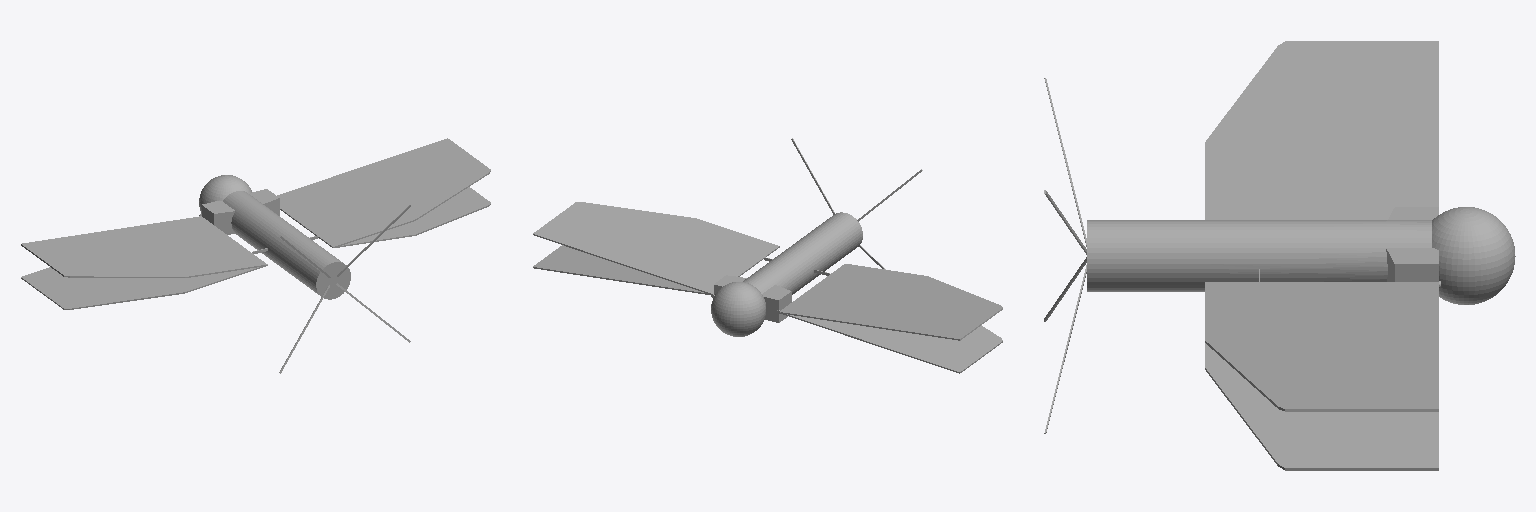
The robot description file, URDF, robot "flapper":
<?xml version="1.0" ?>
<!-- =================================================================================== -->
<!-- |    This document was autogenerated by xacro from Flapper.xacro                  | -->
<!-- |    EDITING THIS FILE BY HAND IS NOT RECOMMENDED                                 | -->
<!-- =================================================================================== -->
<robot name="flapper">
  <material name="silver">
    <color rgba="0.700 0.700 0.700 1.000"/>
  </material>
  <transmission name="left_wing_back_m_tran">
    <type>transmission_interface/SimpleTransmission</type>
    <joint name="left_wing_back_m">
      <hardwareInterface>hardware_interface/EffortJointInterface</hardwareInterface>
    </joint>
    <actuator name="left_wing_back_m_actr">
      <hardwareInterface>hardware_interface/EffortJointInterface</hardwareInterface>
      <mechanicalReduction>1</mechanicalReduction>
    </actuator>
  </transmission>
  <transmission name="right_wing_back_tran">
    <type>transmission_interface/SimpleTransmission</type>
    <joint name="right_wing_back">
      <hardwareInterface>hardware_interface/EffortJointInterface</hardwareInterface>
    </joint>
    <actuator name="right_wing_back_actr">
      <hardwareInterface>hardware_interface/EffortJointInterface</hardwareInterface>
      <mechanicalReduction>1</mechanicalReduction>
    </actuator>
  </transmission>
  <transmission name="right_wing_front_m_tran">
    <type>transmission_interface/SimpleTransmission</type>
    <joint name="right_wing_front_m">
      <hardwareInterface>hardware_interface/EffortJointInterface</hardwareInterface>
    </joint>
    <actuator name="right_wing_front_m_actr">
      <hardwareInterface>hardware_interface/EffortJointInterface</hardwareInterface>
      <mechanicalReduction>1</mechanicalReduction>
    </actuator>
  </transmission>
  <transmission name="left_wing_front_tran">
    <type>transmission_interface/SimpleTransmission</type>
    <joint name="left_wing_front">
      <hardwareInterface>hardware_interface/EffortJointInterface</hardwareInterface>
    </joint>
    <actuator name="left_wing_front_actr">
      <hardwareInterface>hardware_interface/EffortJointInterface</hardwareInterface>
      <mechanicalReduction>1</mechanicalReduction>
    </actuator>
  </transmission>
  <gazebo>
    <plugin filename="libgazebo_ros_control.so" name="control"/>
  </gazebo>
  <gazebo reference="base_link">
    <material>Gazebo/Silver</material>
    <mu1>0.2</mu1>
    <mu2>0.2</mu2>
    <selfCollide>true</selfCollide>
    <gravity>true</gravity>
  </gazebo>
  <gazebo reference="left_wing_back_1">
    <material>Gazebo/Silver</material>
    <mu1>0.2</mu1>
    <mu2>0.2</mu2>
    <selfCollide>true</selfCollide>
  </gazebo>
  <gazebo reference="right_wing_back_1">
    <material>Gazebo/Silver</material>
    <mu1>0.2</mu1>
    <mu2>0.2</mu2>
    <selfCollide>true</selfCollide>
  </gazebo>
  <gazebo reference="right_wing_front_1">
    <material>Gazebo/Silver</material>
    <mu1>0.2</mu1>
    <mu2>0.2</mu2>
    <selfCollide>true</selfCollide>
  </gazebo>
  <gazebo reference="left_wing_front_1">
    <material>Gazebo/Silver</material>
    <mu1>0.2</mu1>
    <mu2>0.2</mu2>
    <selfCollide>true</selfCollide>
  </gazebo>
  <link name="base_link">
    <inertial>
      <origin rpy="0 0 0" xyz="-4.19101812440002e-08 0.12776286582420185 0.0"/>
      <mass value="0.333408595011269"/>
      <inertia ixx="0.001649" ixy="-0.0" ixz="0.0" iyy="9.4e-05" iyz="-0.0" izz="0.001668"/>
    </inertial>
    <visual>
      <origin rpy="0 0 0" xyz="0 0 0"/>
      <geometry>
        <mesh filename="package://flapper_description/meshes/base_link.stl" scale="0.001 0.001 0.001"/>
      </geometry>
      <material name="silver"/>
    </visual>
    <collision>
      <origin rpy="0 0 0" xyz="0 0 0"/>
      <geometry>
        <mesh filename="package://flapper_description/meshes/base_link.stl" scale="0.001 0.001 0.001"/>
      </geometry>
    </collision>
  </link>
  <link name="left_wing_back_1">
    <inertial>
      <origin rpy="0 0 0" xyz="0.06326482306657802 -0.06051126668244686 -0.07422928663834187"/>
      <mass value="0.03802500177087531"/>
      <inertia ixx="0.000125" ixy="-9e-06" ixz="6.4e-05" iyy="0.00013" iyz="1e-05" izz="0.000102"/>
    </inertial>
    <visual>
      <origin rpy="0 0 0" xyz="-0.0375 -0.195 -0.0"/>
      <geometry>
        <mesh filename="package://flapper_description/meshes/left_wing_back_1.stl" scale="0.001 0.001 0.001"/>
      </geometry>
      <material name="silver"/>
    </visual>
    <collision>
      <origin rpy="0 0 0" xyz="-0.0375 -0.195 -0.0"/>
      <geometry>
        <mesh filename="package://flapper_description/meshes/left_wing_back_1.stl" scale="0.001 0.001 0.001"/>
      </geometry>
    </collision>
  </link>
  <link name="right_wing_back_1">
    <inertial>
      <origin rpy="0 0 0" xyz="-0.062115755843106156 -0.06051126668244711 -0.07519346805287182"/>
      <mass value="0.0380250017708754"/>
      <inertia ixx="0.000125" ixy="9e-06" ixz="-6.4e-05" iyy="0.00013" iyz="1e-05" izz="0.000102"/>
    </inertial>
    <visual>
      <origin rpy="0 0 0" xyz="0.0375 -0.195 -0.0"/>
      <geometry>
        <mesh filename="package://flapper_description/meshes/right_wing_back_1.stl" scale="0.001 0.001 0.001"/>
      </geometry>
      <material name="silver"/>
    </visual>
    <collision>
      <origin rpy="0 0 0" xyz="0.0375 -0.195 -0.0"/>
      <geometry>
        <mesh filename="package://flapper_description/meshes/right_wing_back_1.stl" scale="0.001 0.001 0.001"/>
      </geometry>
    </collision>
  </link>
  <link name="right_wing_front_1">
    <inertial>
      <origin rpy="0 0 0" xyz="-0.06326482250778453 -0.06051126668244711 0.07422928663834194"/>
      <mass value="0.03802500177087537"/>
      <inertia ixx="0.000125" ixy="9e-06" ixz="6.4e-05" iyy="0.00013" iyz="-1e-05" izz="0.000102"/>
    </inertial>
    <visual>
      <origin rpy="0 0 0" xyz="0.0375 -0.195 -0.0"/>
      <geometry>
        <mesh filename="package://flapper_description/meshes/right_wing_front_1.stl" scale="0.001 0.001 0.001"/>
      </geometry>
      <material name="silver"/>
    </visual>
    <collision>
      <origin rpy="0 0 0" xyz="0.0375 -0.195 -0.0"/>
      <geometry>
        <mesh filename="package://flapper_description/meshes/right_wing_front_1.stl" scale="0.001 0.001 0.001"/>
      </geometry>
    </collision>
  </link>
  <link name="left_wing_front_1">
    <inertial>
      <origin rpy="0 0 0" xyz="0.062115756401899584 -0.06051126668244694 0.07519346805287173"/>
      <mass value="0.038025001770875345"/>
      <inertia ixx="0.000125" ixy="-9e-06" ixz="-6.4e-05" iyy="0.00013" iyz="-1e-05" izz="0.000102"/>
    </inertial>
    <visual>
      <origin rpy="0 0 0" xyz="-0.0375 -0.195 -0.0"/>
      <geometry>
        <mesh filename="package://flapper_description/meshes/left_wing_front_1.stl" scale="0.001 0.001 0.001"/>
      </geometry>
      <material name="silver"/>
    </visual>
    <collision>
      <origin rpy="0 0 0" xyz="-0.0375 -0.195 -0.0"/>
      <geometry>
        <mesh filename="package://flapper_description/meshes/left_wing_front_1.stl" scale="0.001 0.001 0.001"/>
      </geometry>
    </collision>
  </link>
  <joint name="left_wing_back_m" type="revolute">
    <origin rpy="0 0 0" xyz="0.0375 0.195 0.0"/>
    <parent link="base_link"/>
    <child link="left_wing_back_1"/>
    <axis xyz="0.0 -1.0 0.0"/>
    <limit effort="100" lower="-0.785398" upper="0.0" velocity="100"/>
  </joint>
  <joint name="right_wing_back" type="revolute">
    <origin rpy="0 0 0" xyz="-0.0375 0.195 0.0"/>
    <parent link="base_link"/>
    <child link="right_wing_back_1"/>
    <axis xyz="0.0 -1.0 0.0"/>
    <limit effort="100" lower="0.0" upper="0.785398" velocity="100"/>
  </joint>
  <joint name="right_wing_front_m" type="revolute">
    <origin rpy="0 0 0" xyz="-0.0375 0.195 0.0"/>
    <parent link="base_link"/>
    <child link="right_wing_front_1"/>
    <axis xyz="0.0 -1.0 0.0"/>
    <limit effort="100" lower="-0.785398" upper="0.0" velocity="100"/>
  </joint>
  <joint name="left_wing_front" type="revolute">
    <origin rpy="0 0 0" xyz="0.0375 0.195 0.0"/>
    <parent link="base_link"/>
    <child link="left_wing_front_1"/>
    <axis xyz="0.0 -1.0 0.0"/>
    <limit effort="100" lower="0.0" upper="0.785398" velocity="100"/>
  </joint>
</robot>

--- Render facts (derived) ---
3 views of the same robot in one strip: view 1: azimuth 30°, elevation 25°; view 2: azimuth 150°, elevation 25°; view 3: azimuth 270°, elevation 25° (orthographic).
Robot: flapper — 5 links, 4 joints (4 revolute); root link base_link; default pose: every joint at zero.
Visible links, largest first — view 1: left_wing_front_1, right_wing_front_1, base_link, right_wing_back_1, left_wing_back_1; view 2: left_wing_front_1, right_wing_front_1, base_link, right_wing_back_1, left_wing_back_1; view 3: right_wing_front_1, base_link, left_wing_front_1, left_wing_back_1.
Link boxes in pixels (box(x1,y1,x2,y2)): left_wing_front_1: box(277, 138, 490, 247); right_wing_front_1: box(21, 216, 267, 277); base_link: box(199, 175, 410, 373); right_wing_back_1: box(21, 265, 267, 309); left_wing_back_1: box(333, 187, 490, 247); left_wing_front_1: box(533, 202, 779, 294); right_wing_front_1: box(781, 264, 1002, 340); base_link: box(711, 138, 922, 336); right_wing_back_1: box(780, 313, 1002, 373); left_wing_back_1: box(533, 245, 711, 294); right_wing_front_1: box(1205, 41, 1438, 219); base_link: box(1044, 78, 1515, 433); left_wing_front_1: box(1205, 282, 1438, 411); left_wing_back_1: box(1205, 343, 1438, 470).
Size in the robot's own frame: 0.4897 by 0.263 by 0.1512 metres.
5 mesh visuals loaded from 5 distinct referenced files (5 binary STL).